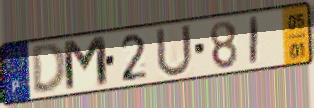2: (119, 32, 150, 83)
8: (208, 19, 239, 71)
D: (30, 41, 69, 96)
I: (247, 14, 261, 68)
M: (61, 34, 112, 95)
U: (154, 22, 195, 80)
